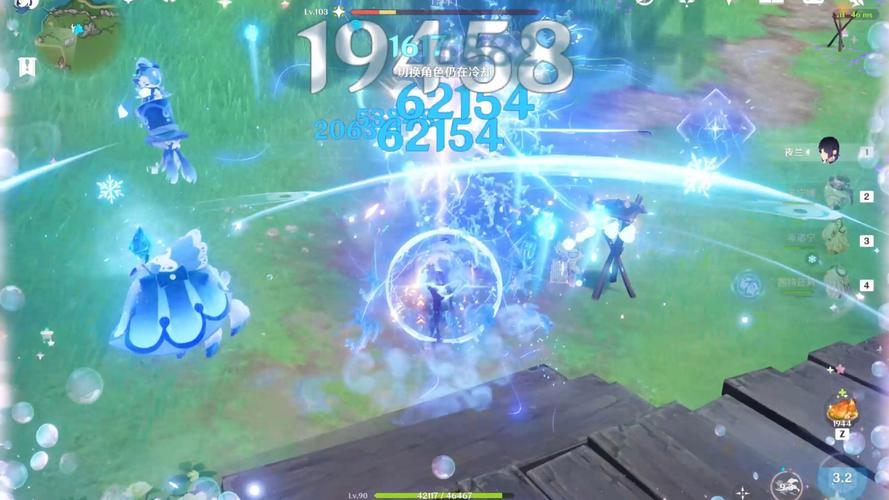夜兰: (385, 229, 485, 358)
